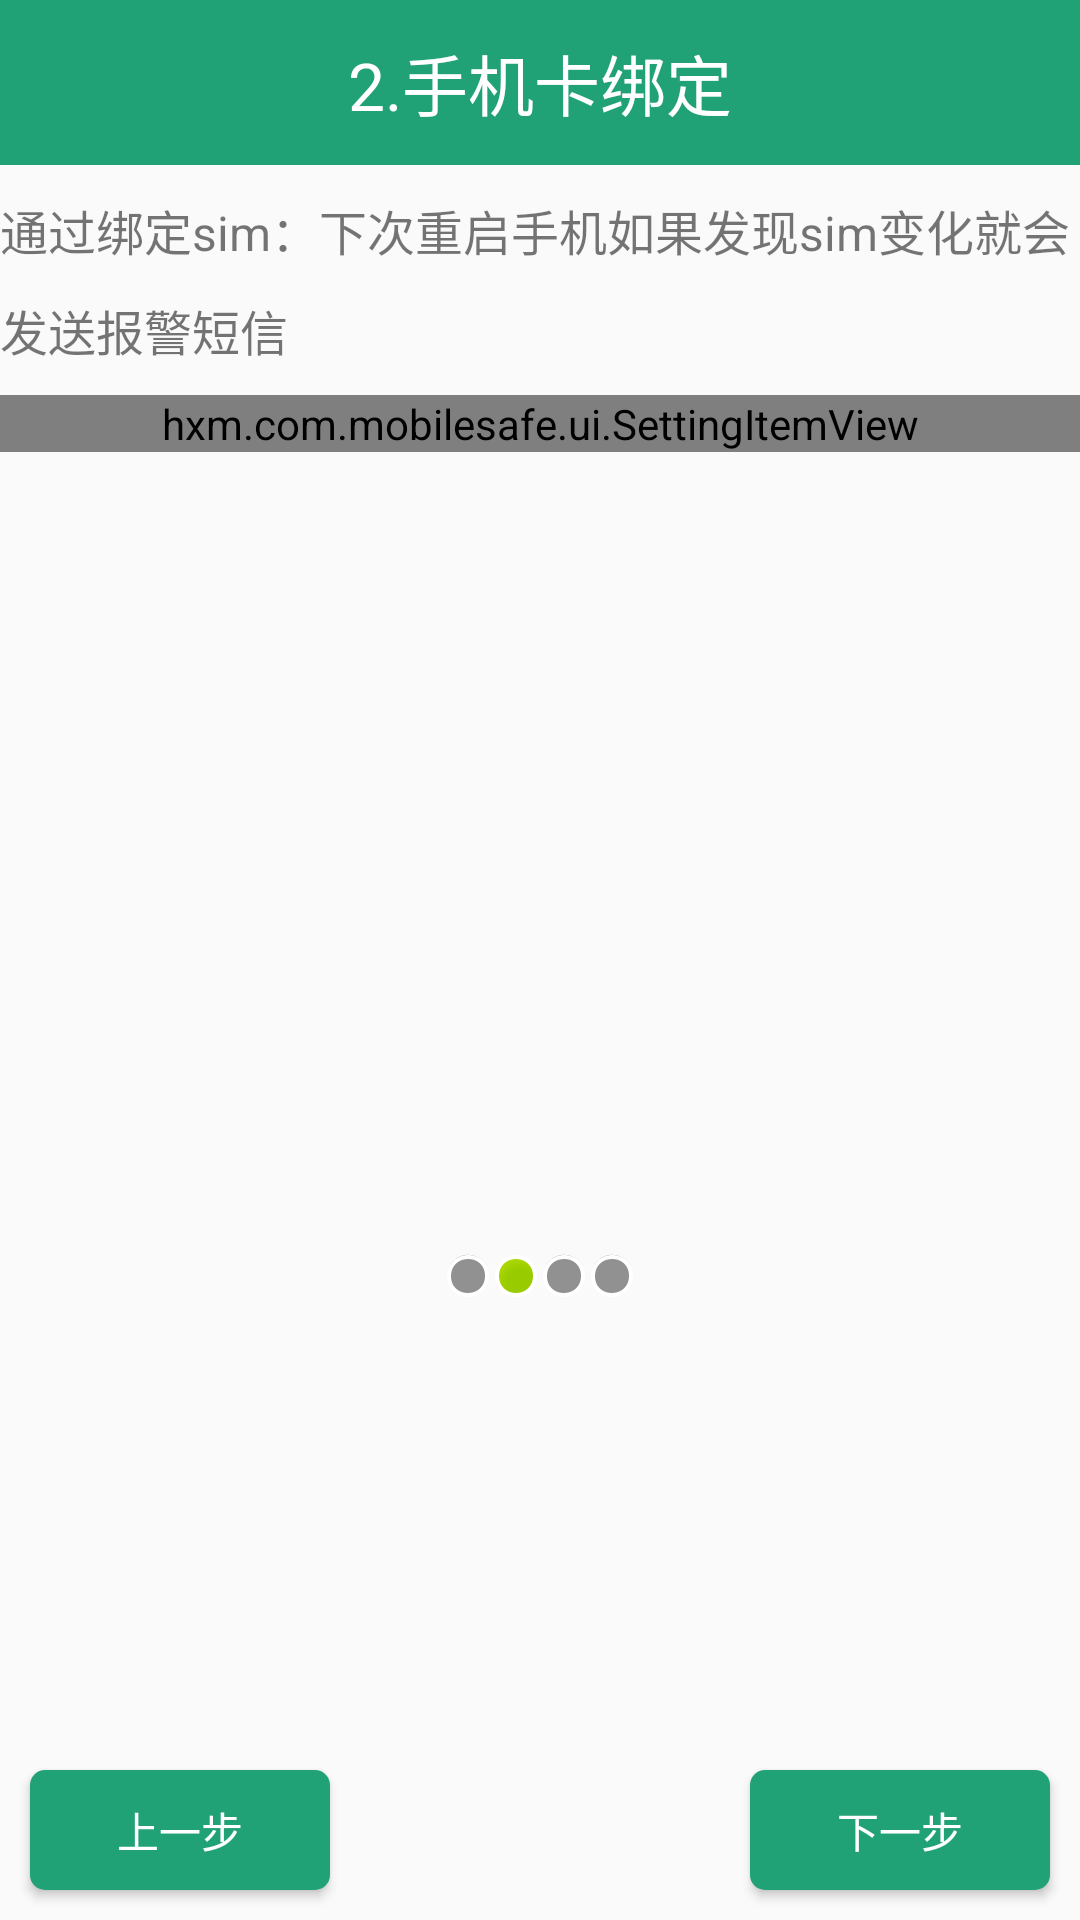

Point at icon controls on the screen. Image size 1080 x 1920, points as point (x, y).
presence invisible: point (468, 1274), point (564, 1274), point (612, 1274)
presence online: point (516, 1276)
